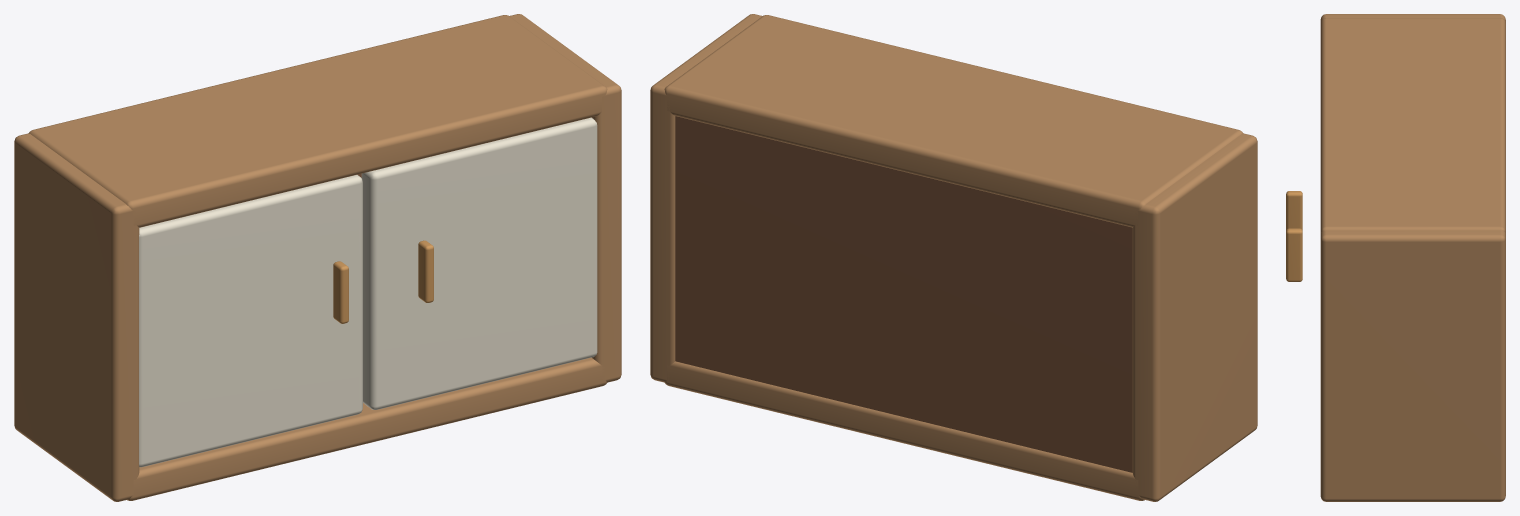
File: porta-embutida.glb
3 renders of one model, left to right at view 1: azimuth 30°, elevation 25°; view 2: azimuth 150°, elevation 25°; view 3: azimuth 270°, elevation 25°, orthographic. The views are drawn at different scales.
Visible parts, largest first — view 1: Estrutura horizontal.001, Porta.001, Porta, Lateral, Estrutura horizontal, Lateral.001, Pega, Pega.001; view 2: Fundo, Estrutura horizontal.001, Lateral, Estrutura horizontal, Lateral.001; view 3: Lateral.001, Estrutura horizontal.001, Pega.001, Lateral, Pega.
Boxes of the visible parts, x1=… form: Estrutura horizontal.001: x1=29, y1=15, x2=607, y2=227; Porta.001: x1=361, y1=117, x2=597, y2=409; Porta: x1=139, y1=175, x2=362, y2=467; Lateral: x1=14, y1=133, x2=139, y2=501; Estrutura horizontal: x1=127, y1=357, x2=607, y2=500; Lateral.001: x1=509, y1=14, x2=621, y2=382; Pega: x1=333, y1=261, x2=348, y2=323; Pega.001: x1=418, y1=240, x2=433, y2=302; Fundo: x1=675, y1=116, x2=1132, y2=472; Estrutura horizontal.001: x1=664, y1=15, x2=1242, y2=227; Lateral: x1=1132, y1=133, x2=1257, y2=501; Estrutura horizontal: x1=664, y1=361, x2=1144, y2=500; Lateral.001: x1=650, y1=14, x2=762, y2=382; Lateral.001: x1=1320, y1=230, x2=1505, y2=501; Estrutura horizontal.001: x1=1320, y1=18, x2=1505, y2=233; Pega.001: x1=1286, y1=228, x2=1302, y2=281; Lateral: x1=1320, y1=14, x2=1505, y2=22; Pega: x1=1286, y1=191, x2=1302, y2=230.
Size of the model in its own units: 2.24 by 1.26 by 0.925.
